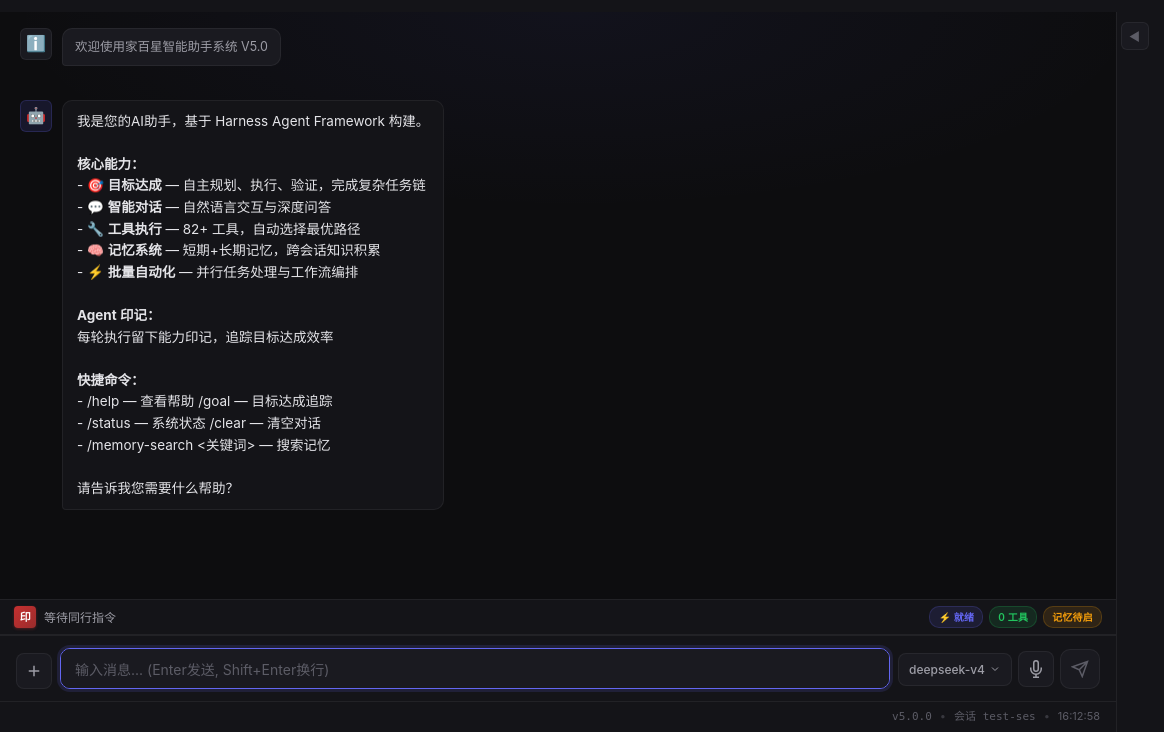
聊天渲染契约：一次发送只新增恰好一条助手气泡（无双回复） › 连续发送两条消息：每条各新增一条助手气泡（无跨条叠加）
Type "你好" into the text box with placeholder "输入消息... (Enter发送, Shift+Enter换行)" at (475, 669), box [60, 648, 890, 689]
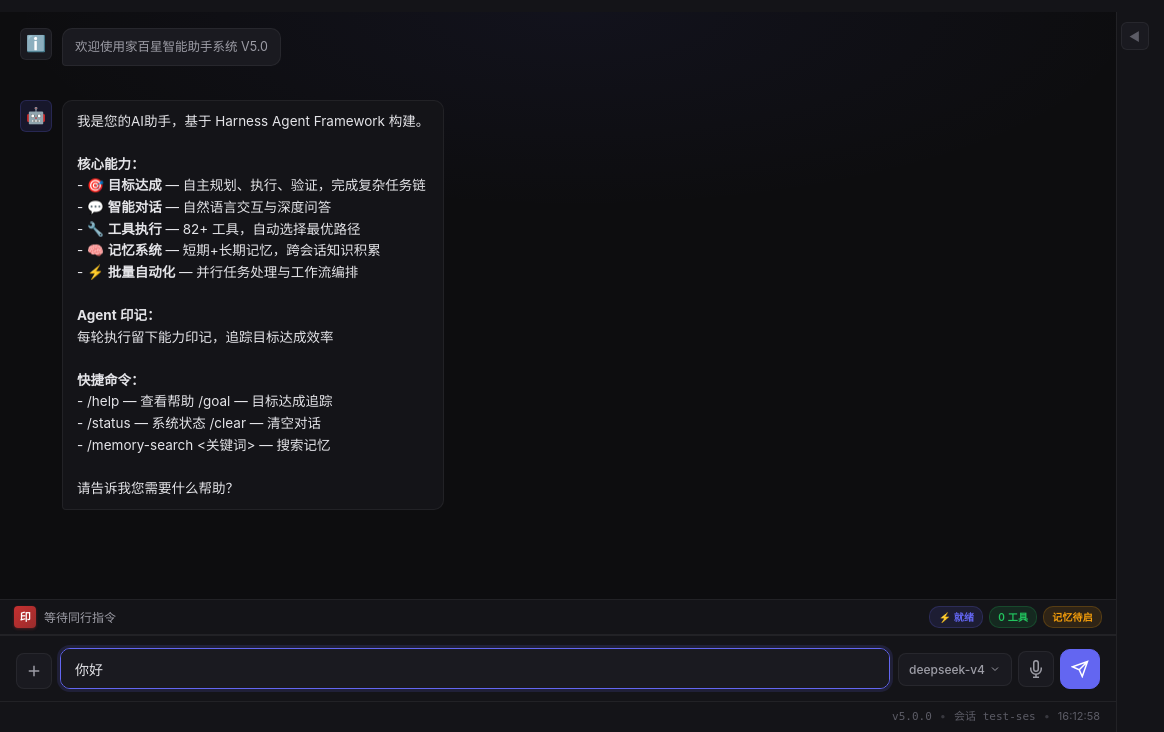
Click the button with class "hermes-send-btn" at (1080, 669), box [1060, 649, 1100, 689]
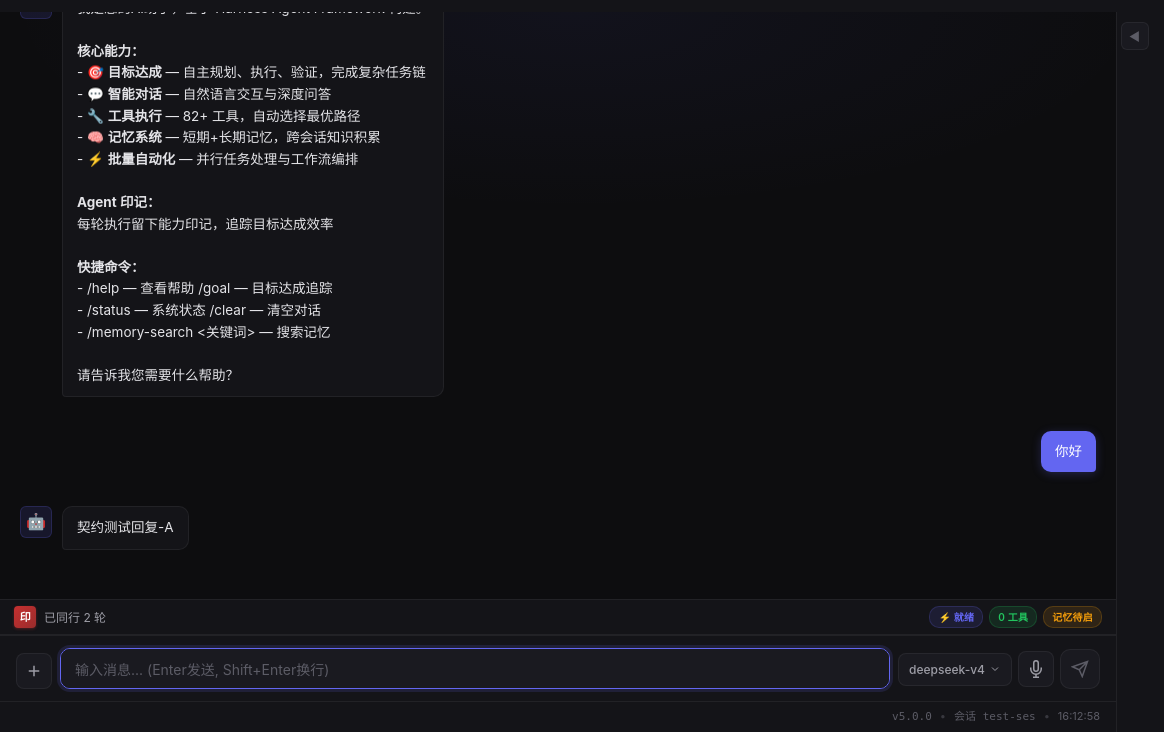
Expected: the text "契约测试回复-A" is shown, [62, 506, 188, 550]
Type "再见" into the text box with placeholder "输入消息... (Enter发送, Shift+Enter换行)" at (475, 669), box [60, 648, 890, 689]
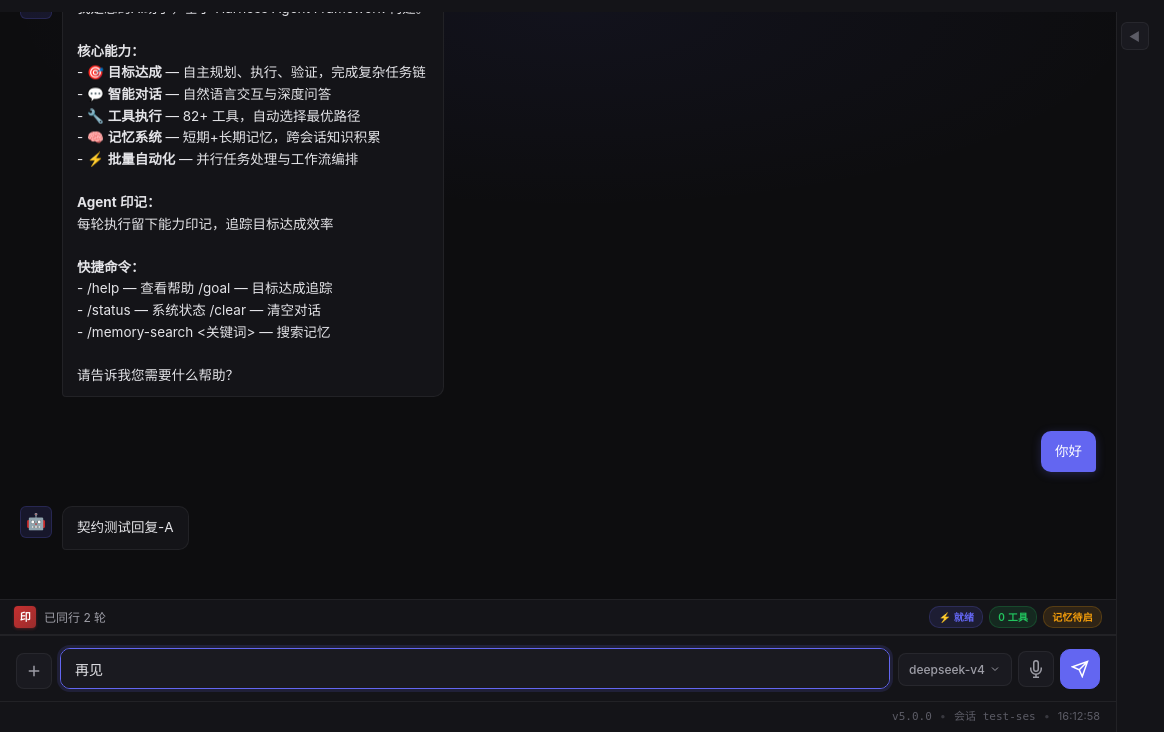
Click the button with class "hermes-send-btn" at (1080, 669), box [1060, 649, 1100, 689]
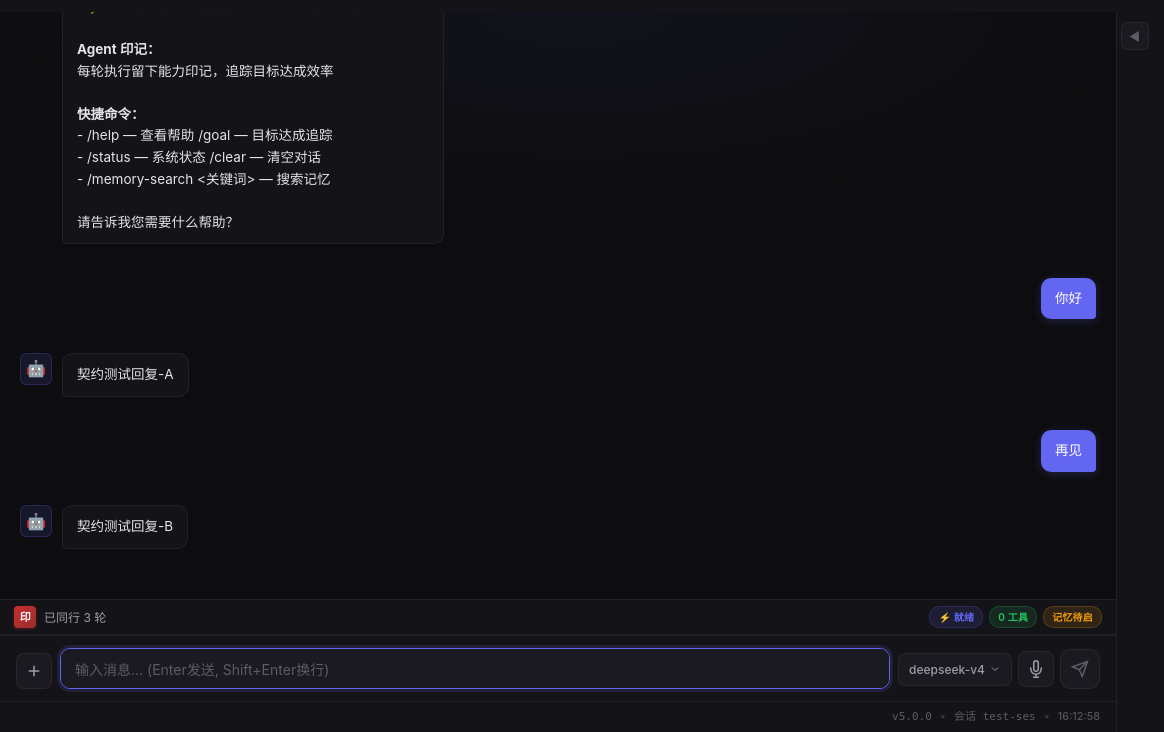
Expected: the text "契约测试回复-B" is shown, [62, 505, 188, 549]
